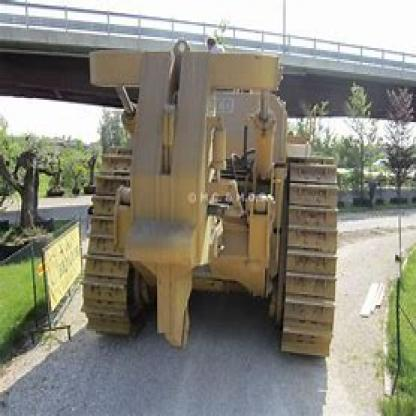bull_dozer/loader/grader: (48, 33, 359, 377)
